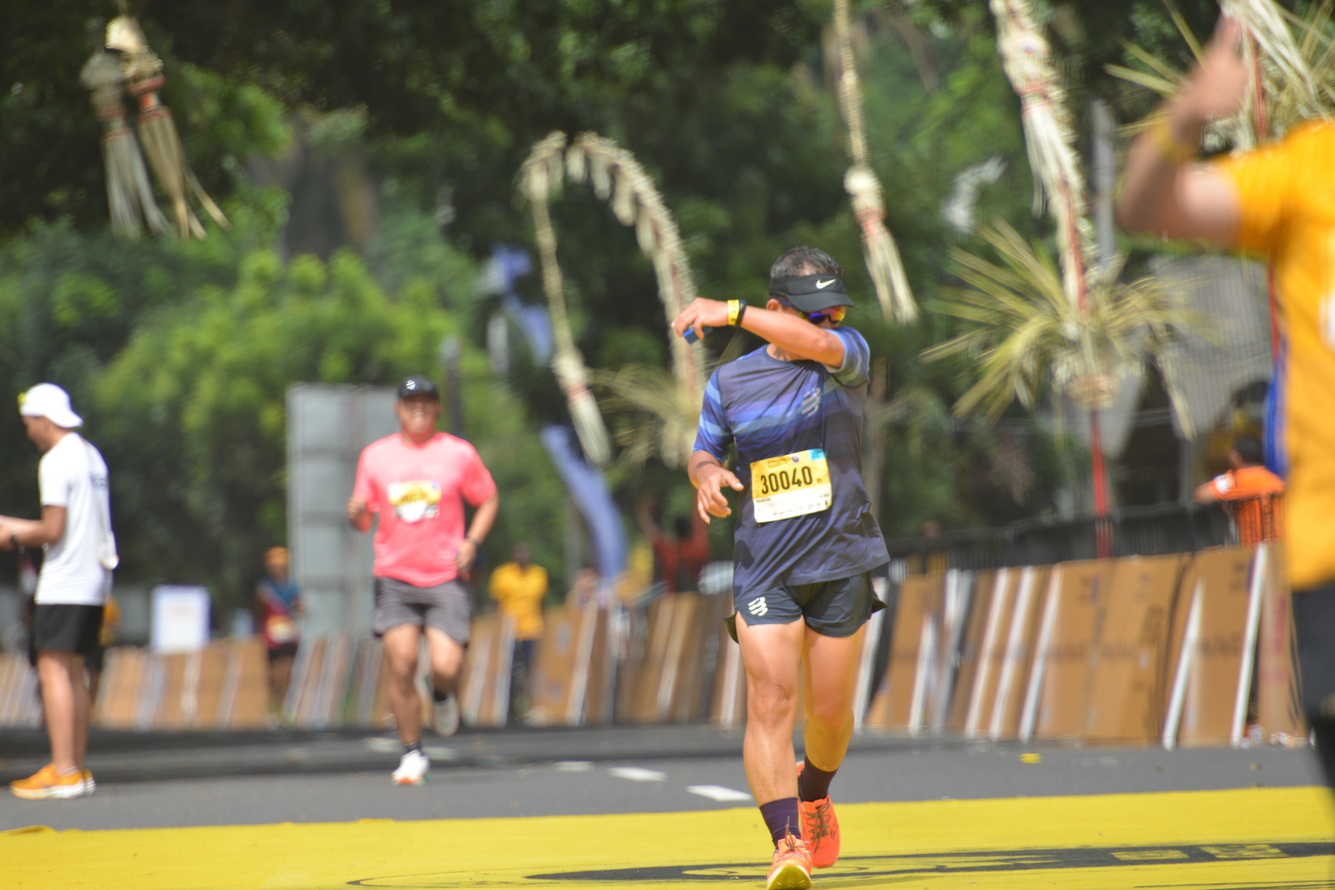bib: (747, 457, 832, 523), (386, 481, 442, 522)
